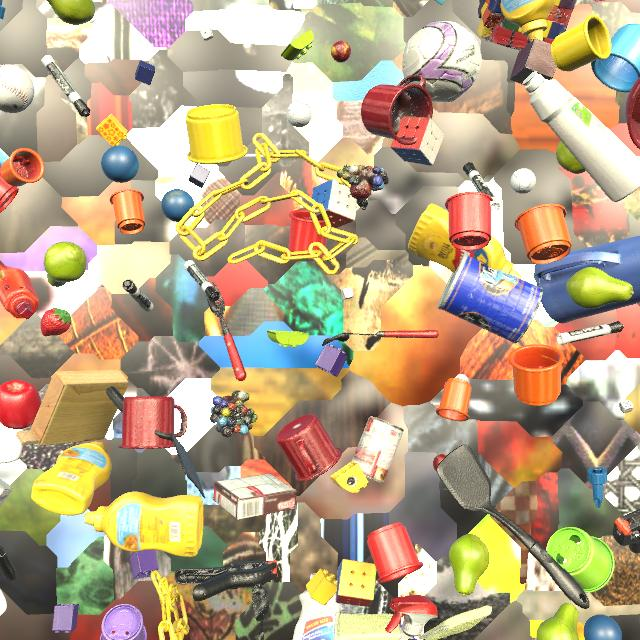ycb_002_master_chef_can: (437, 254, 543, 344)
ycb_004_sugar_box: (0, 479, 13, 507)
ycb_005_tomato_soup_can: (352, 416, 404, 484)
ycb_006_mustard_bottle: (408, 204, 521, 278), (84, 492, 204, 557), (31, 441, 112, 515), (501, 0, 556, 42)
ycb_008_pudding_box: (213, 473, 297, 520)
ycb_012_strawberry: (41, 308, 71, 336)
ycb_013_apple: (0, 380, 42, 429)
ycb_016_pear: (566, 267, 634, 309), (449, 534, 490, 596), (44, 242, 87, 287), (536, 603, 579, 640), (46, 0, 95, 25), (556, 141, 586, 174)
